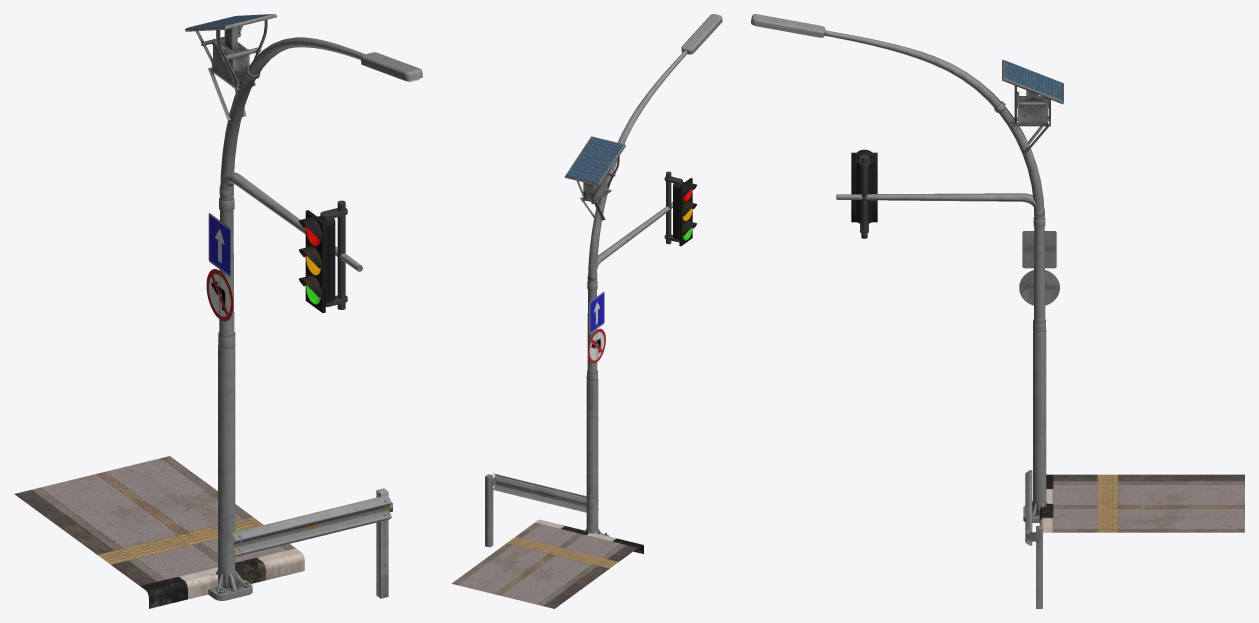
File: street-props.glb
The picture shows the model from 3 angles, left to right: view 1: azimuth 30°, elevation 25°; view 2: azimuth 150°, elevation 25°; view 3: azimuth 270°, elevation 25°; orthographic projection. The views are drawn at different scales.
Visible parts, largest first — view 1: SideWalkA, StreetLampSingle, Traffic Light, Railing2m; view 2: SideWalkA, StreetLampSingle, Traffic Light, Railing2m; view 3: SideWalkA, StreetLampSingle, Traffic Light, Railing2m.
Boxes of the visible parts, left/top/right/bottom form: SideWalkA: left=14, top=456, right=304, bottom=608; StreetLampSingle: left=185, top=14, right=422, bottom=600; Traffic Light: left=206, top=172, right=362, bottom=321; Railing2m: left=232, top=488, right=392, bottom=598; SideWalkA: left=451, top=519, right=643, bottom=608; StreetLampSingle: left=564, top=14, right=722, bottom=536; Traffic Light: left=587, top=171, right=696, bottom=363; Railing2m: left=485, top=473, right=598, bottom=547; SideWalkA: left=1039, top=474, right=1244, bottom=532; StreetLampSingle: left=751, top=14, right=1063, bottom=522; Traffic Light: left=836, top=149, right=1059, bottom=305; Railing2m: left=1025, top=470, right=1042, bottom=608.
Bounding box in the file's own units: 3.05 × 8.6 × 7.21.
7 materials, 7 textured.
